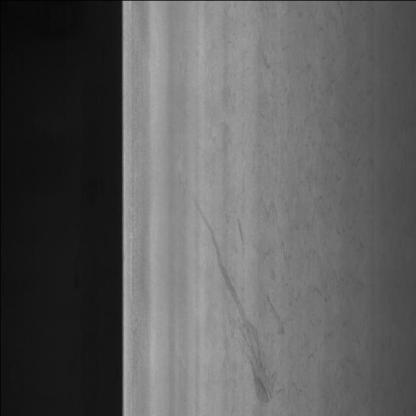silk_spot: (227, 13, 366, 262)
water_spot: (190, 195, 290, 416)
